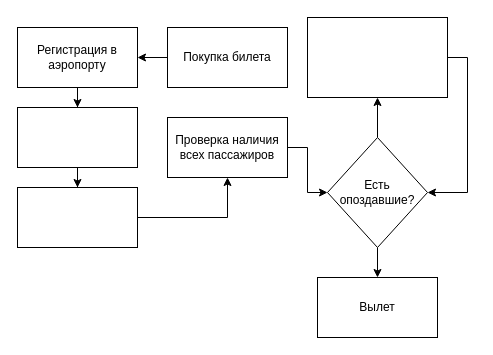
The diagram is 493 pixels wide and 355 high, and some of its shapes have lost their labels. Here are the shapes that lost their labels. From the top down, the centre of each, then its label:
At point (377, 57): "Передать данные о пассажире и объявить о просьбе пройти на борт голосом".
At point (77, 137): "Ожидание готовности самолета к вылету".
At point (77, 217): "Объявление посадки на борт".
